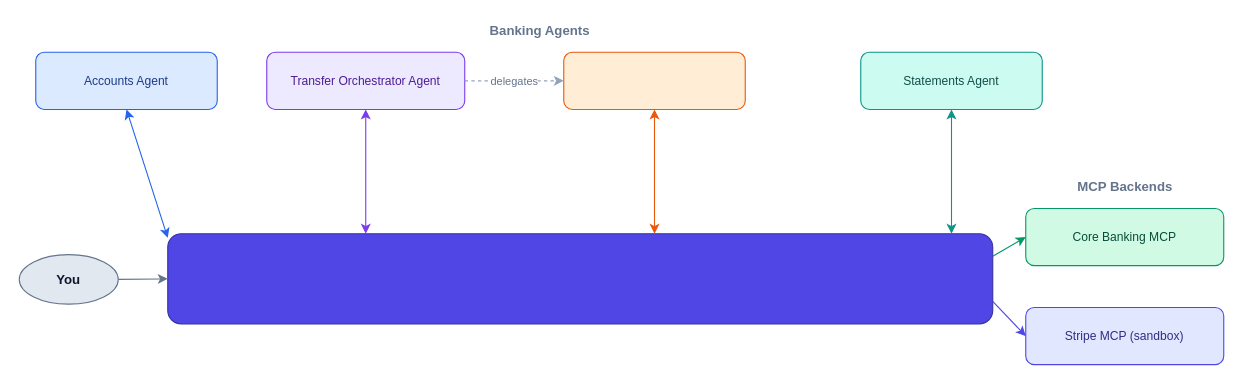
Image size: 1243x384. Some labels were removed from this diagram. Each missing label, with the centre of its shape:
agentgateway routing · auth · guardrails · cost: (x=580, y=278)
Settlement Agent: (x=654, y=80)
